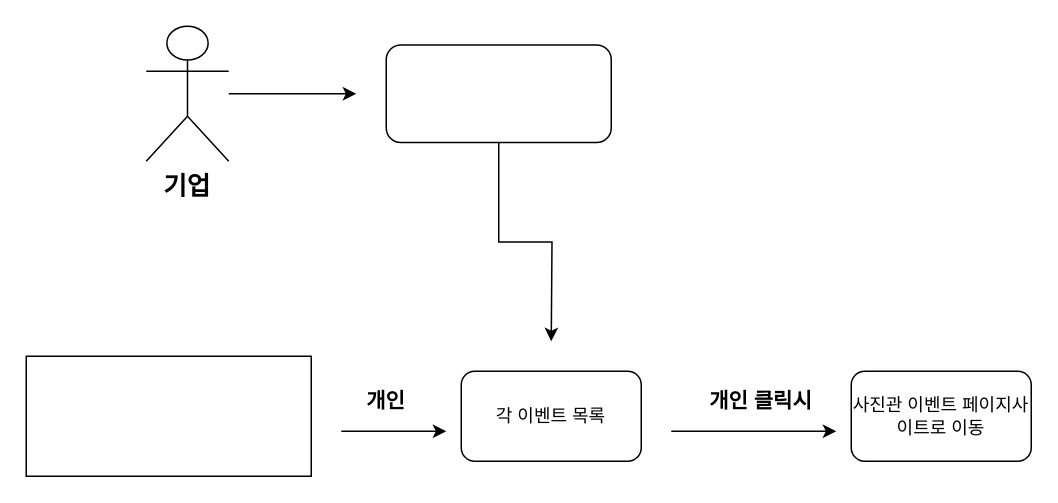
This 1058x503 diagram has some shape labels left out. Each missing label, with the box of its shape:
이벤트 목록작성: (385, 44, 611, 142)
이벤트 페이지: (25, 355, 311, 476)
